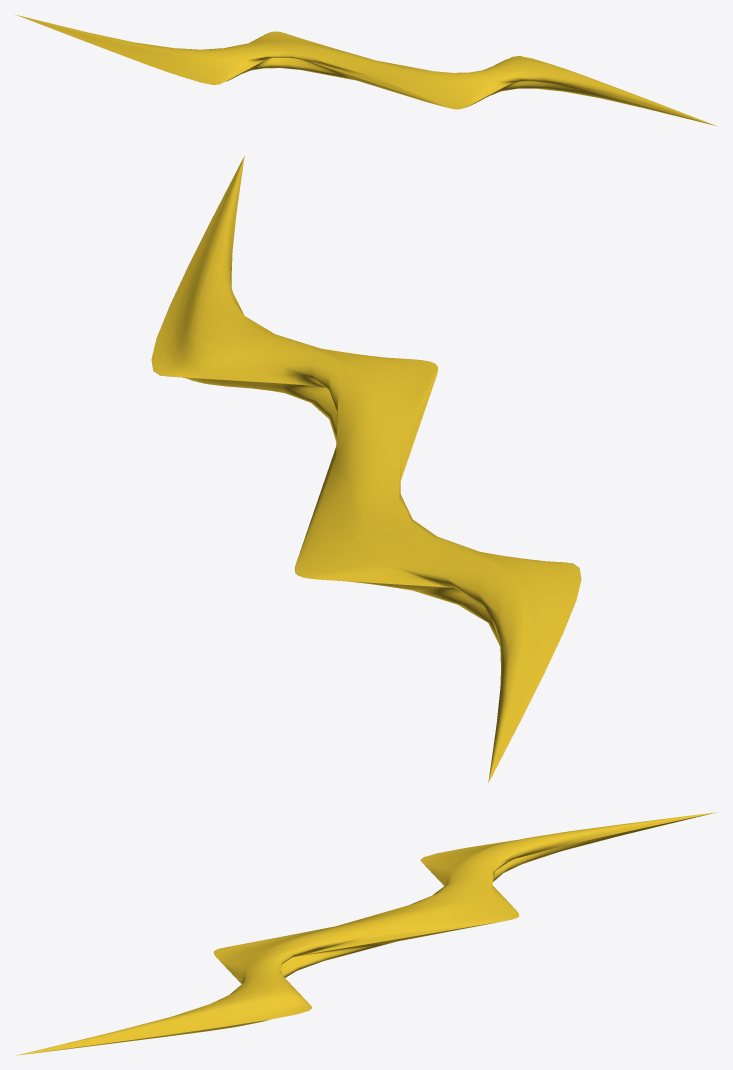
Rendered from Thunder01.fbx.
The picture shows the model from 3 angles, top to bottom: view 1: azimuth 30°, elevation 25°; view 2: azimuth 150°, elevation 25°; view 3: azimuth 270°, elevation 25°; orthographic projection. The views are drawn at different scales.
Parts seen in each view (by area): view 1: Cube.001; view 2: Cube.001; view 3: Cube.001.
Boxes of the visible parts, bbox=[...] form: Cube.001: bbox=[15, 14, 717, 126]; Cube.001: bbox=[151, 156, 581, 782]; Cube.001: bbox=[16, 812, 716, 1055].
Bounding box in the file's own units: 2524 × 127 × 3084.
